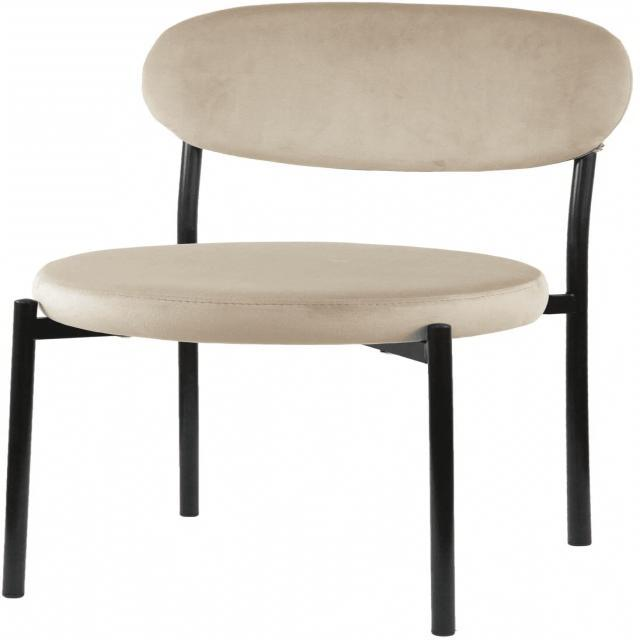chair: (2, 0, 640, 637), (29, 2, 631, 337)
